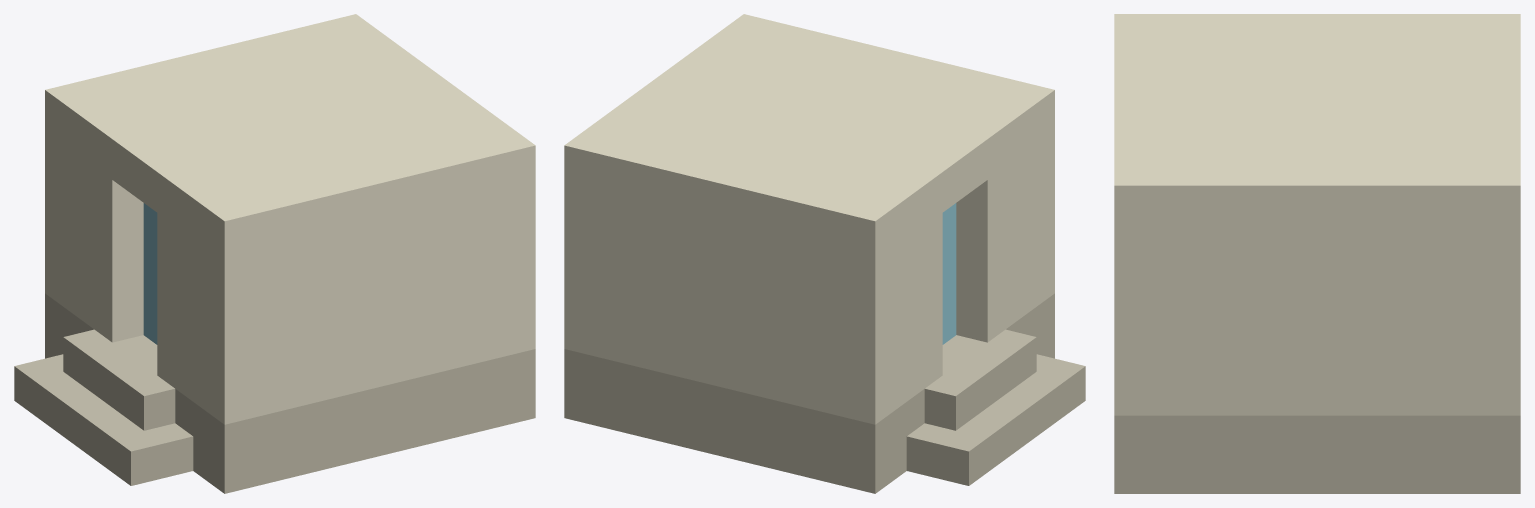
The model's file is basement3.obj.
3 renders of one model, left to right at view 1: azimuth 30°, elevation 25°; view 2: azimuth 150°, elevation 25°; view 3: azimuth 270°, elevation 25°, orthographic. The views are drawn at different scales.
Parts seen in each view (by area): view 1: basement3; view 2: basement3; view 3: basement3.
Part boxes in pixels (x1,y1,x2,y2): basement3: [14, 14, 535, 493]; basement3: [564, 14, 1085, 493]; basement3: [1114, 14, 1520, 493].
Bounding box in the file's own units: 1.2 × 0.8375 × 1.
